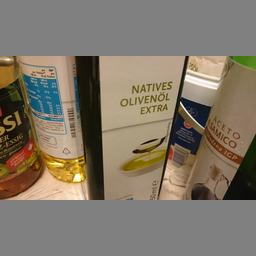oil: (74, 55, 188, 199), (16, 56, 83, 181)
